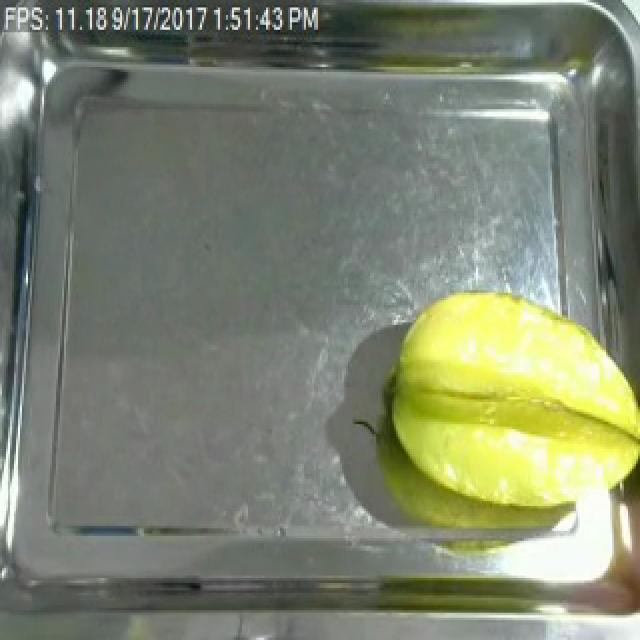fruit: (374, 278, 640, 533)
